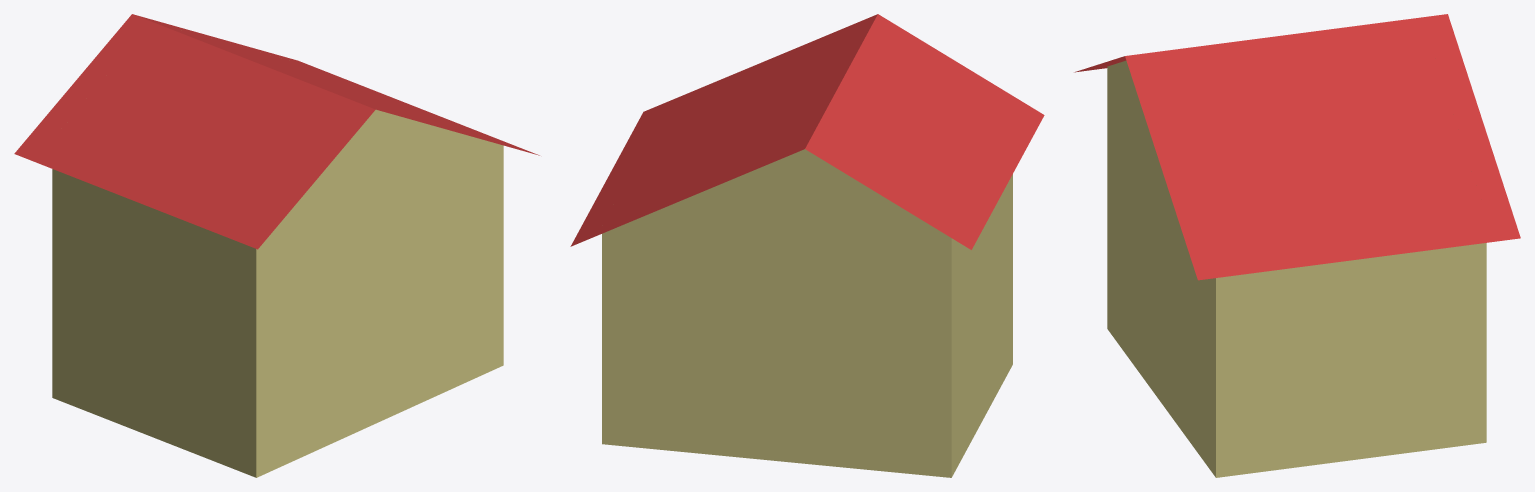
The picture shows the model from 3 angles, left to right: view 1: azimuth 30°, elevation 25°; view 2: azimuth 150°, elevation 25°; view 3: azimuth 270°, elevation 25°; orthographic projection. The views are drawn at different scales.
Bounding box in the file's own units: 13.86 × 12.29 × 10.18.
